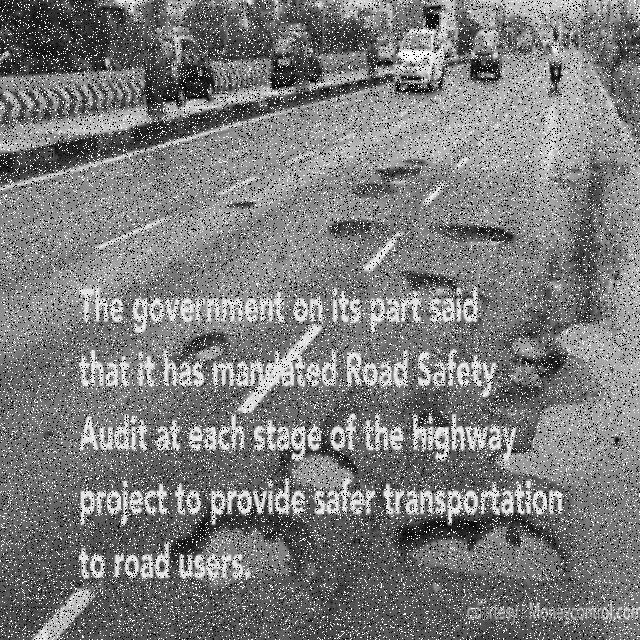pothole: (496, 235, 640, 640), (380, 499, 575, 606), (174, 506, 309, 607), (284, 442, 366, 491), (431, 219, 516, 257), (406, 264, 461, 294), (184, 329, 231, 361), (328, 213, 368, 247), (380, 167, 422, 198)
